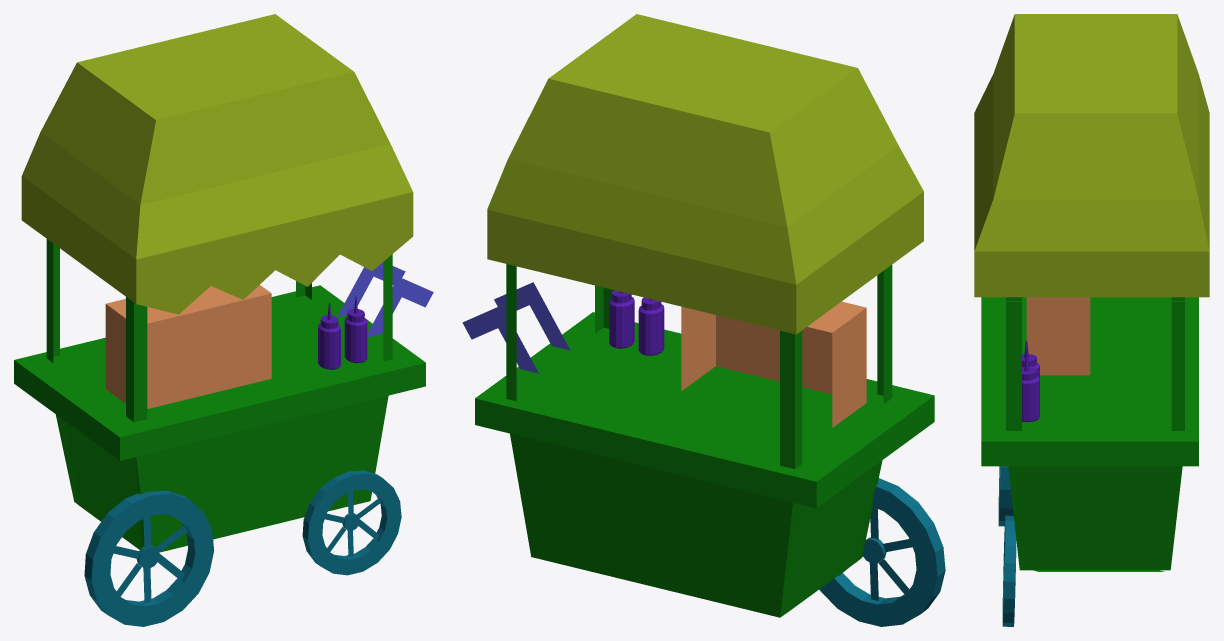
The model's file is nieve.fbx.
3 renders of one model, left to right at view 1: azimuth 30°, elevation 25°; view 2: azimuth 150°, elevation 25°; view 3: azimuth 270°, elevation 25°, orthographic. The views are drawn at different scales.
Visible parts, largest first — view 1: puesto_helados; view 2: puesto_helados; view 3: puesto_helados.
Boxes of the visible parts, x1,y1,x2,y2 form: puesto_helados: (14, 14, 433, 626); puesto_helados: (462, 14, 945, 626); puesto_helados: (974, 14, 1209, 626).
Bounding box in the file's own units: 79.91 × 101 × 42.39.
